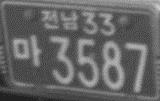3: (48, 34, 74, 84), (98, 12, 116, 36), (81, 10, 98, 34)
5: (76, 37, 101, 89)
7: (124, 41, 148, 95)
8: (101, 39, 125, 90)
마: (11, 34, 42, 68)
전남_O: (40, 9, 80, 32)
